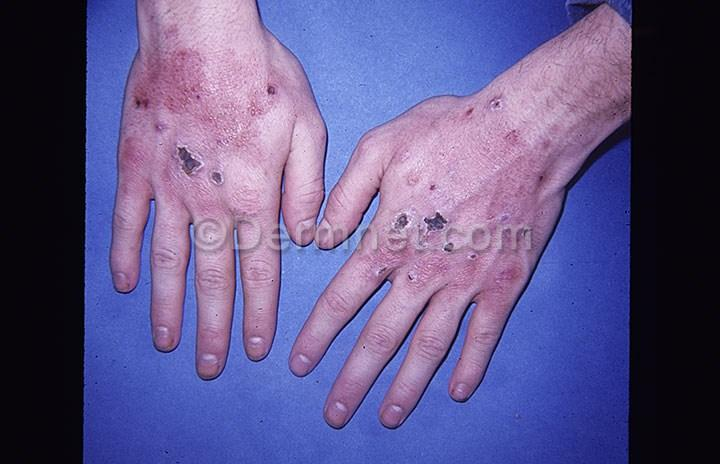Eczema: (135, 11, 242, 126), (385, 140, 508, 238), (111, 99, 183, 193), (371, 236, 470, 297), (231, 55, 300, 129), (206, 118, 269, 195), (475, 80, 531, 163), (474, 235, 538, 294), (506, 168, 573, 213)
